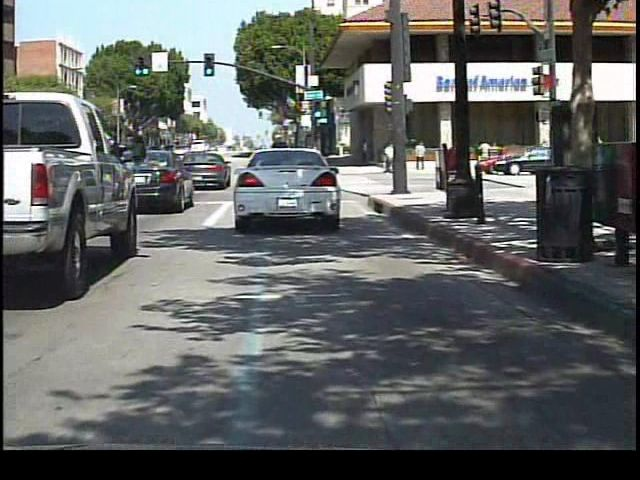person: (475, 136, 494, 171), (412, 139, 430, 172), (382, 139, 398, 175)
